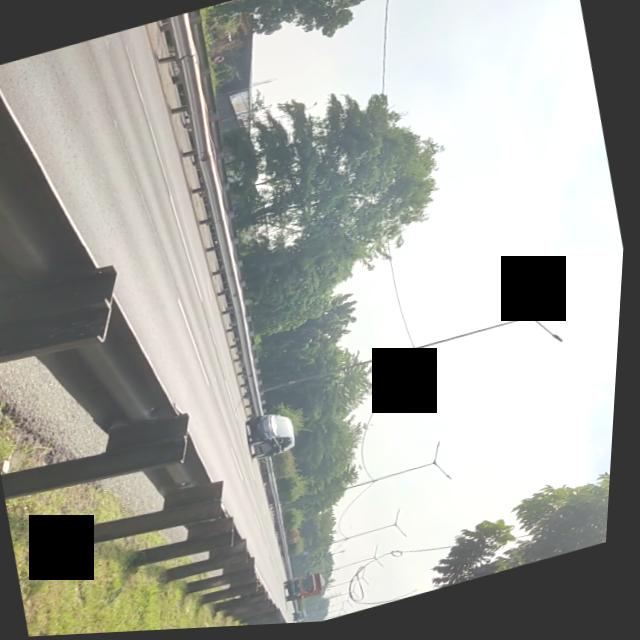Golongan I: (242, 404, 307, 468)
